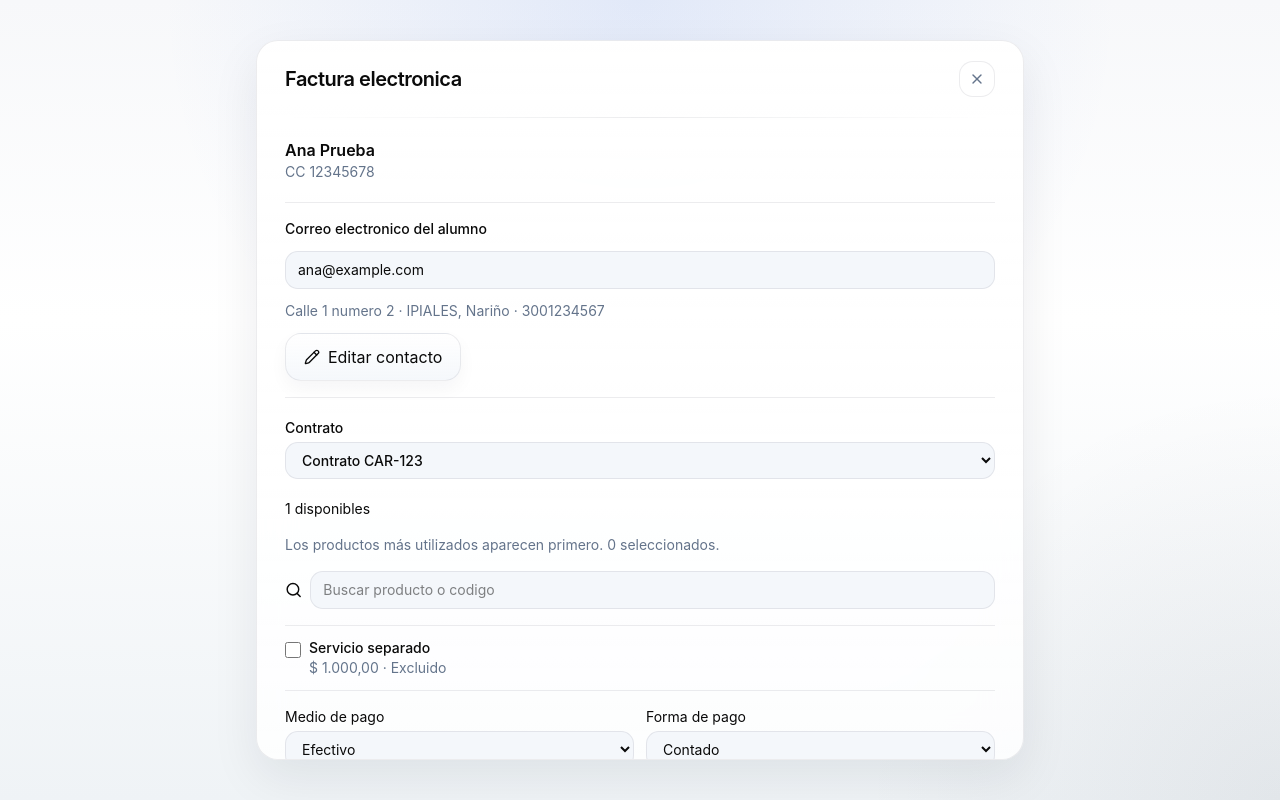
Test: preselecciona Efectivo habilitado y permite cambiarlo antes de revisar
The width and height of the screenshot is (1280, 800).
Expected: the dropdown labelled "Medio de pago" shows "Efectivo", [285,731,634,759]
Select "Tarjeta Débito" in the dropdown labelled "Medio de pago": (460, 749) [285,731,634,768]
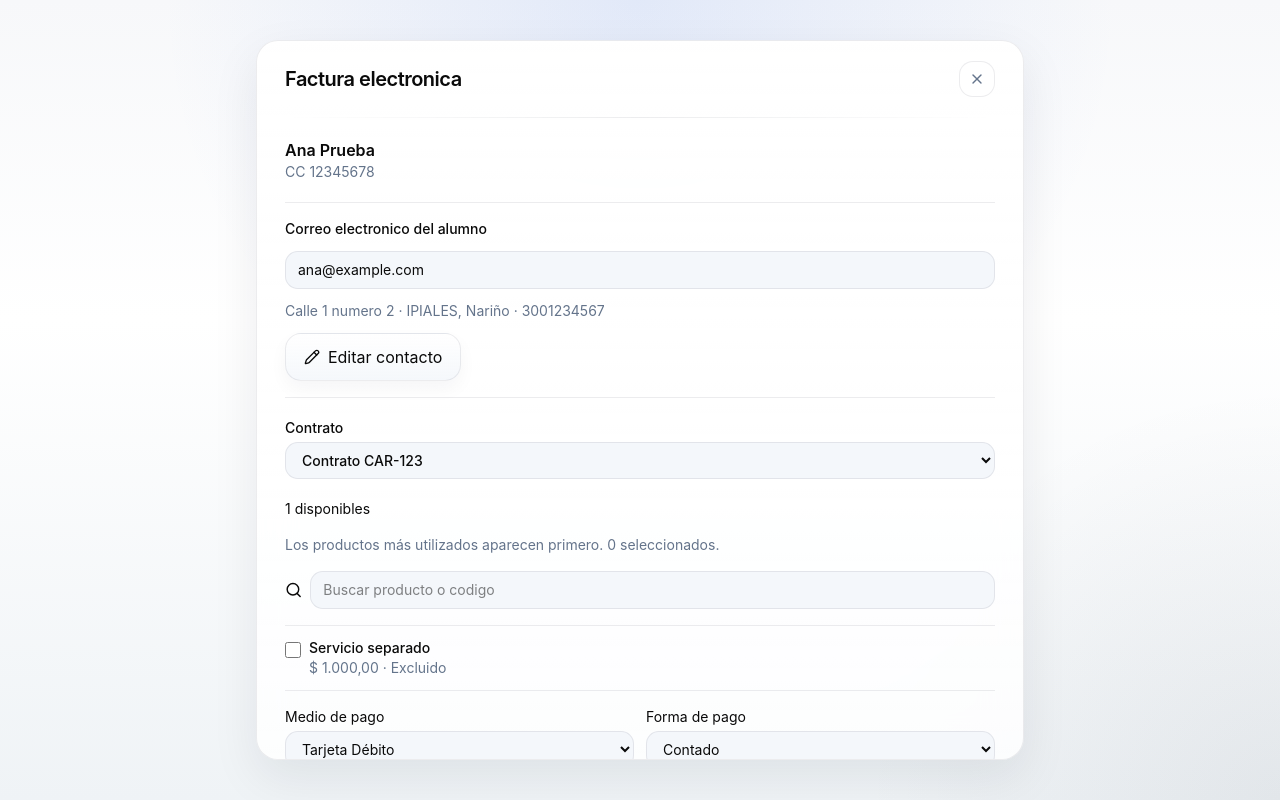
Click the checkbox labelled "Servicio separado": (293, 650) [285,642,301,658]
(page scrolled)
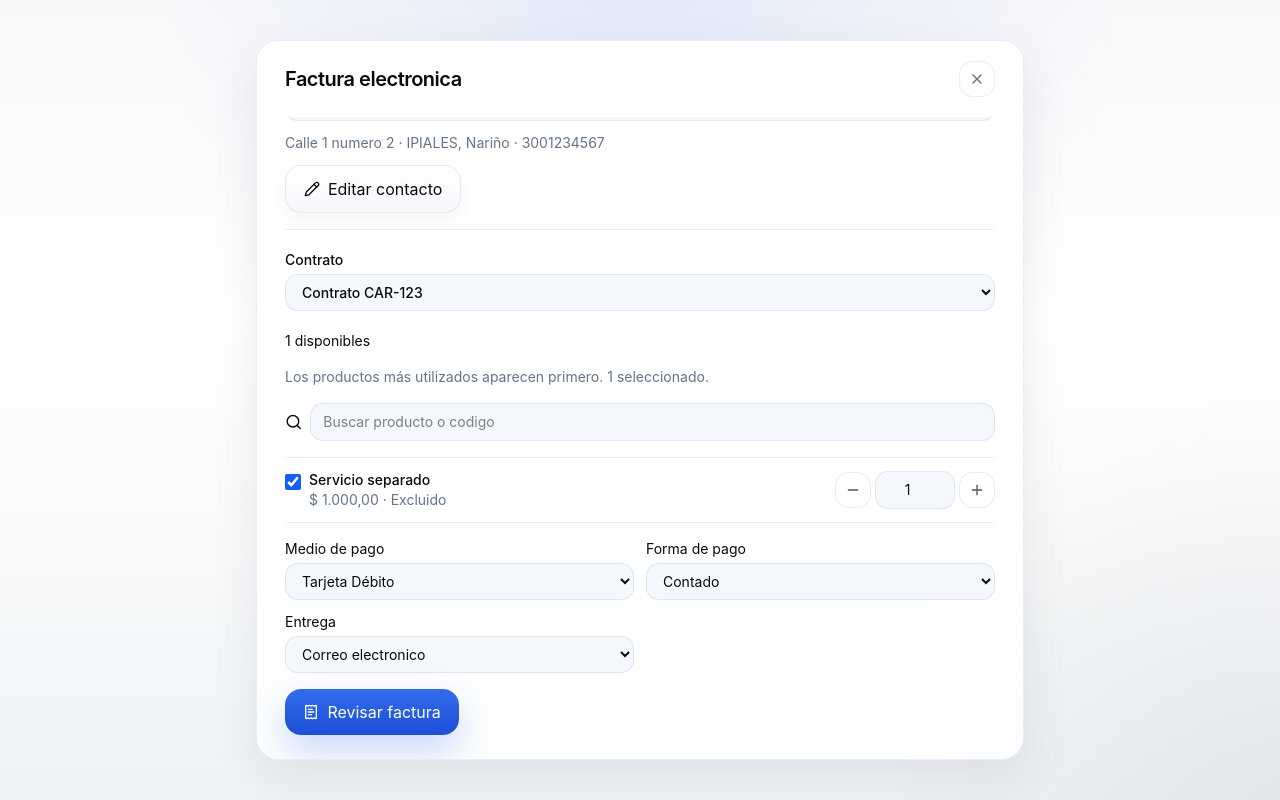
Click the button "Revisar factura": (372, 712) [285,689,459,735]
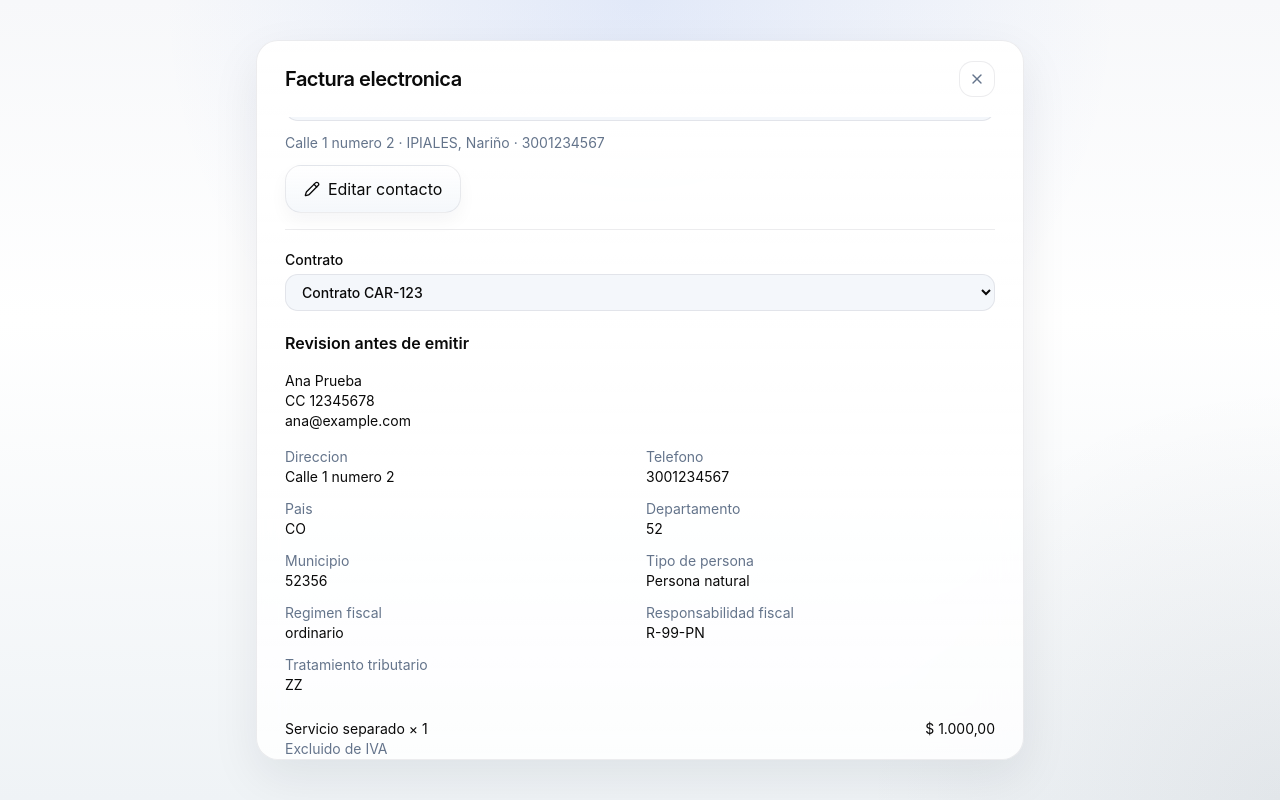
Now the heading "Revision antes de emitir" is shown, box [285,333,469,353]
